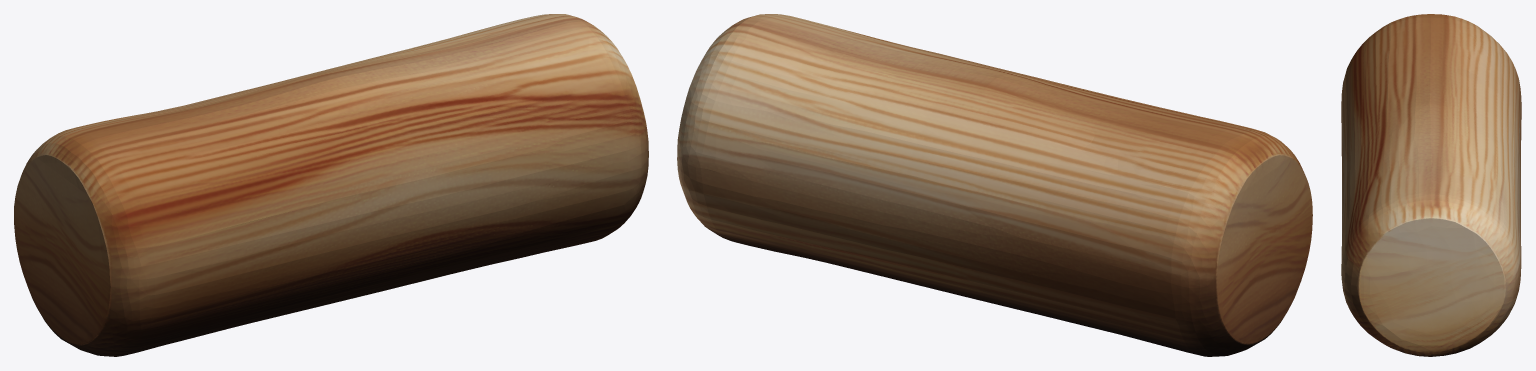
The model's file is wooden-massage-roller-3d.jpeg.glb.
The picture shows the model from 3 angles, left to right: view 1: azimuth 30°, elevation 25°; view 2: azimuth 150°, elevation 25°; view 3: azimuth 270°, elevation 25°; orthographic projection. The views are drawn at different scales.
Parts seen in each view (by area): view 1: world; view 2: world; view 3: world.
Part boxes in pixels (x1,y1,x2,y2): world: (14, 14, 648, 356); world: (677, 14, 1312, 356); world: (1341, 14, 1521, 356).
Bounding box in the file's own units: 0.9895 × 0.3672 × 0.3711.
Materials: 1 (1 with a texture image).
